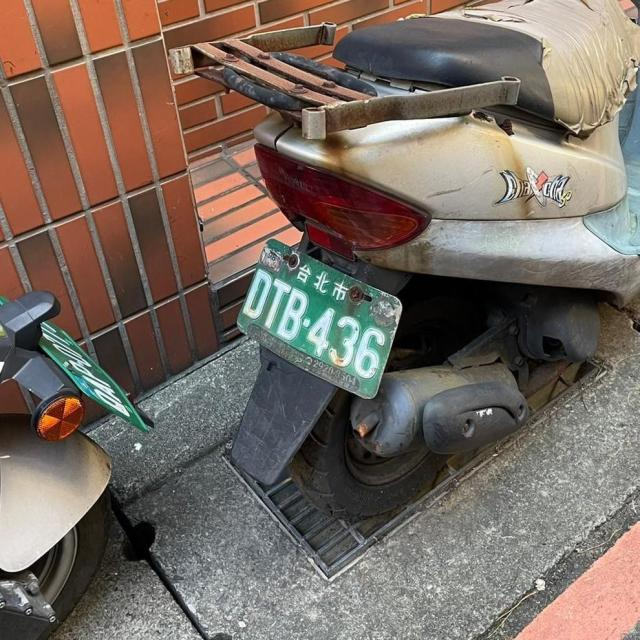GW: (233, 232, 410, 406)
